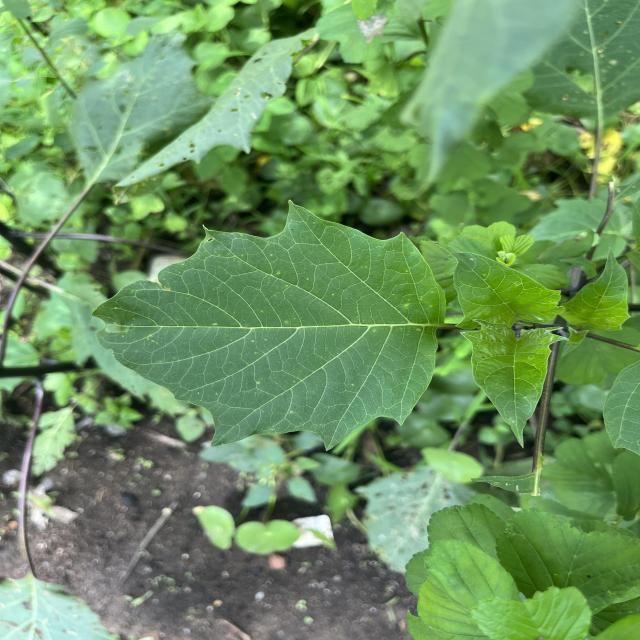Datura metal linn: (88, 195, 450, 454)
